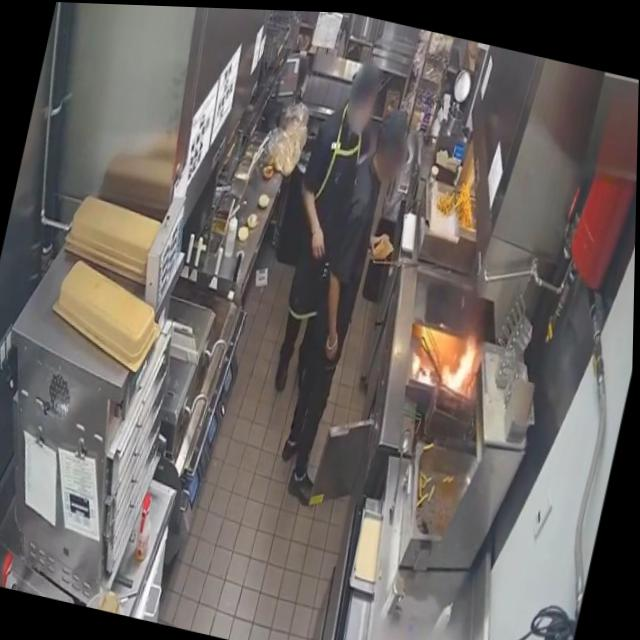fire: (438, 322, 487, 390), (416, 356, 439, 386)
